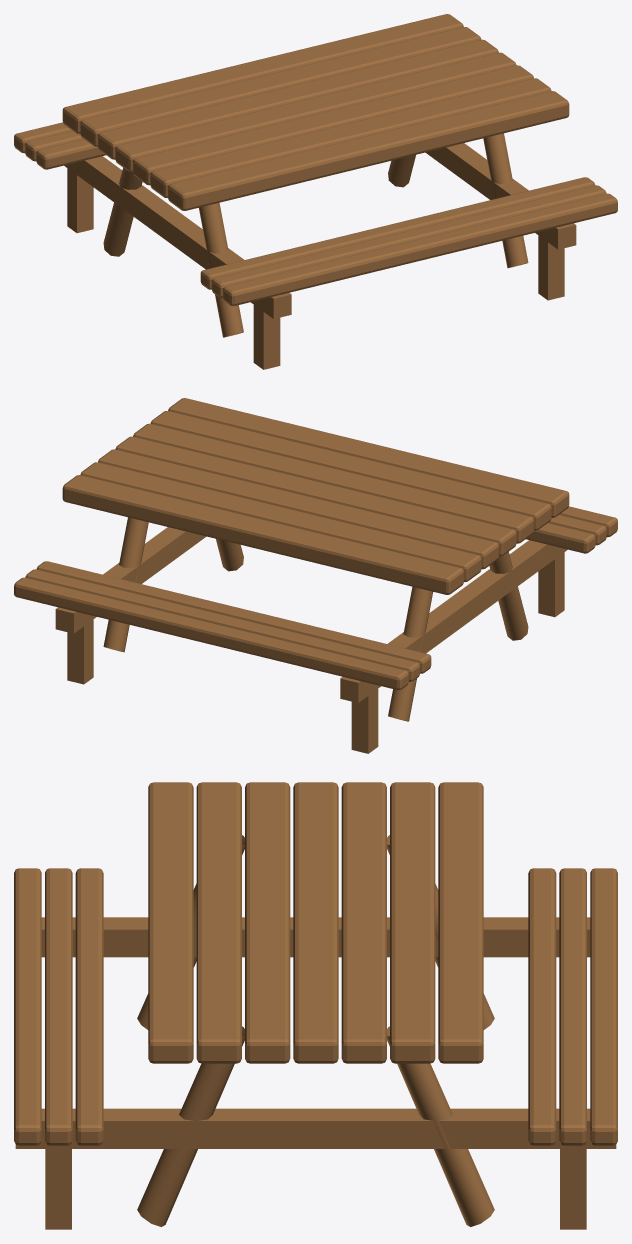
File: picnic.glb
3 views of the same model, one above another, from view 1: azimuth 30°, elevation 25°; view 2: azimuth 150°, elevation 25°; view 3: azimuth 270°, elevation 25° (orthographic). The views are drawn at different scales.
Parts seen in each view (by area): view 1: part_00000, part_00007, part_00004, part_00006, part_00003, part_00001, part_00002, part_00005, part_00017, part_00008, part_00009, part_00018 (+10 smaller); view 2: part_00006, part_00012, part_00002, part_00000, part_00003, part_00001, part_00004, part_00005, part_00017, part_00011, part_00010, part_00018 (+10 smaller); view 3: part_00018, part_00000, part_00003, part_00006, part_00002, part_00004, part_00001, part_00005, part_00009, part_00010, part_00007, part_00008 (+7 smaller).
Boxes of the visible parts, box(x1,y1,x2,y2) form: part_00000: box(168, 91, 569, 210); part_00007: box(223, 193, 617, 306); part_00004: box(97, 39, 498, 159); part_00006: box(62, 14, 463, 133); part_00003: box(115, 52, 516, 172); part_00001: box(150, 78, 551, 197); part_00002: box(133, 65, 533, 185); part_00005: box(80, 27, 481, 146); part_00017: box(64, 156, 291, 318); part_00008: box(211, 185, 606, 297); part_00009: box(200, 177, 595, 289); part_00018: box(425, 143, 576, 249); part_00006: box(62, 475, 463, 594); part_00012: box(14, 577, 408, 690); part_00002: box(133, 423, 534, 543); part_00000: box(168, 398, 569, 517); part_00003: box(115, 436, 516, 556); part_00001: box(150, 411, 551, 530); part_00004: box(98, 449, 498, 569); part_00005: box(80, 462, 481, 581); part_00017: box(340, 540, 567, 702); part_00011: box(25, 569, 420, 681); part_00010: box(36, 561, 431, 673); part_00018: box(55, 527, 206, 633); part_00018: box(15, 1108, 616, 1148); part_00000: box(148, 782, 193, 1063); part_00003: box(293, 782, 338, 1063); part_00006: box(438, 782, 483, 1063); part_00002: box(245, 782, 290, 1063); part_00004: box(341, 782, 386, 1063); part_00001: box(196, 782, 241, 1063); part_00005: box(390, 782, 435, 1063); part_00009: box(75, 868, 103, 1145); part_00010: box(528, 868, 556, 1145); part_00007: box(14, 868, 41, 1145); part_00008: box(45, 868, 72, 1145).
Bounding box in the file's own units: 3 × 1.17 × 2.93.
